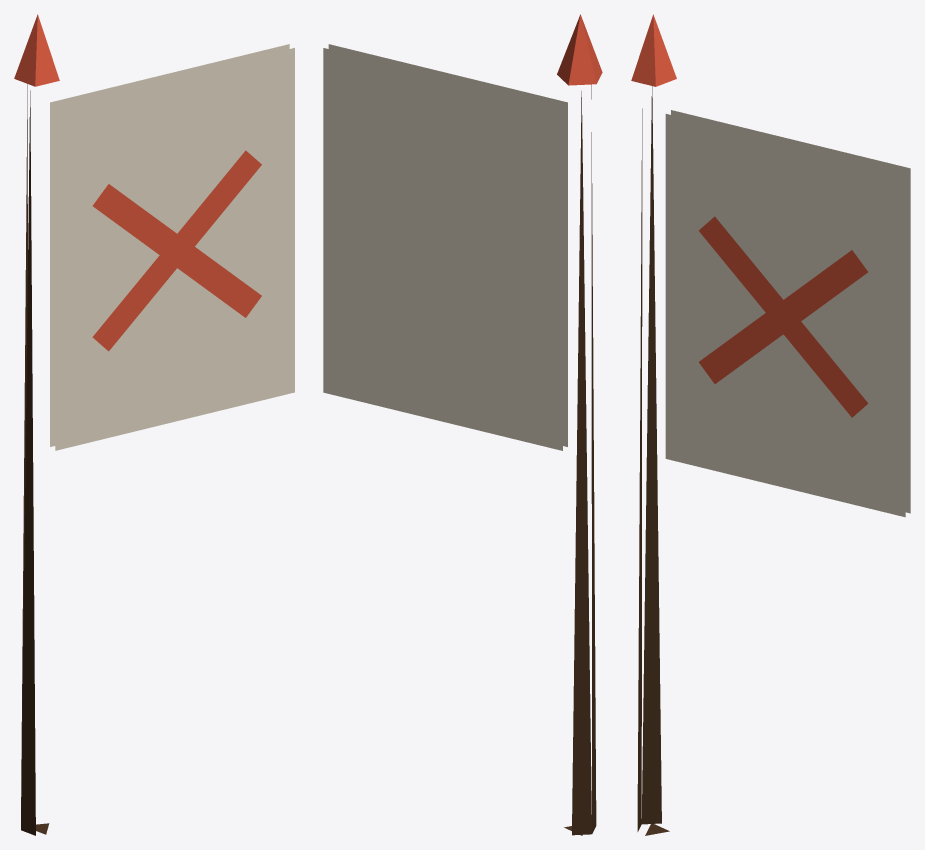
File: prop_plague_banner_lod1.glb
3 views of the same model, side by side, from view 1: azimuth 30°, elevation 25°; view 2: azimuth 150°, elevation 25°; view 3: azimuth 330°, elevation 25° (orthographic).
Visible parts, largest first — view 1: prop_plague_banner_lod1; view 2: prop_plague_banner_lod1; view 3: prop_plague_banner_lod1.
Part boxes in pixels (x1=…): prop_plague_banner_lod1: x1=14, y1=14, x2=294, y2=835; prop_plague_banner_lod1: x1=323, y1=14, x2=602, y2=835; prop_plague_banner_lod1: x1=631, y1=14, x2=910, y2=835.
Size of the model in its own units: 0.9166 by 2.6 by 0.1266.
